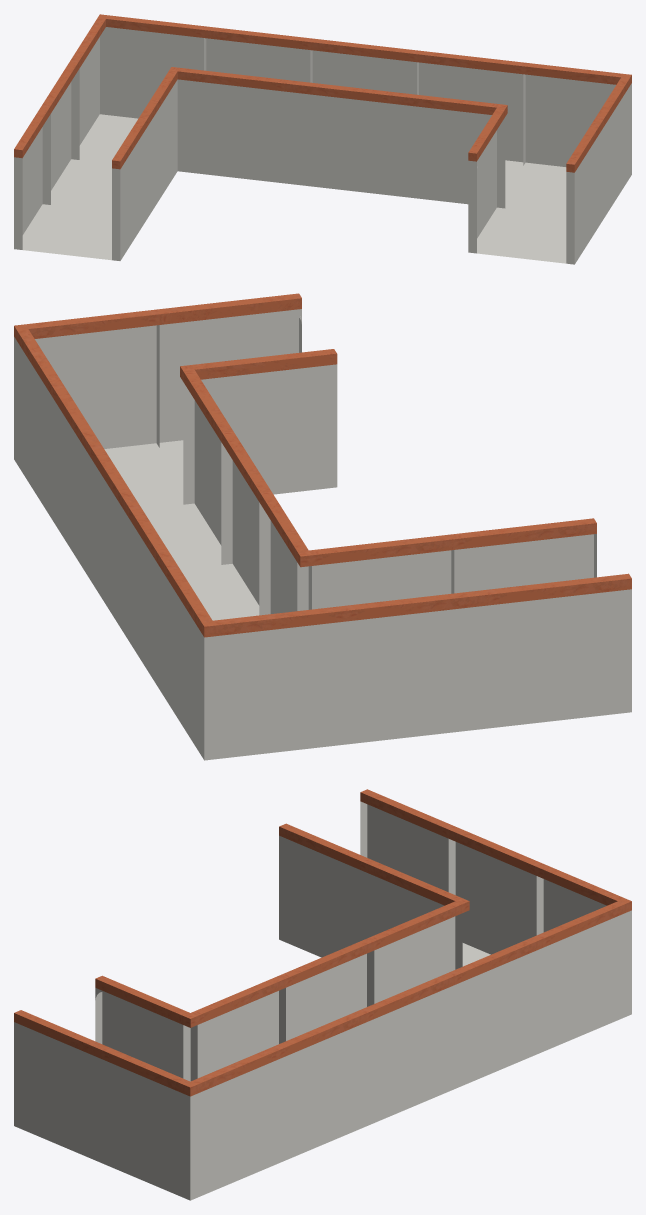
The model's file is river_basin_1.fbx.
3 renders of one model, top to bottom at view 1: azimuth 30°, elevation 25°; view 2: azimuth 150°, elevation 25°; view 3: azimuth 270°, elevation 25°, orthographic. The views are drawn at different scales.
Visible parts, largest first — view 1: SM_WaterBlock1__11_, SM_WaterBlock1__12_, SM_WaterBlock1__13_, SM_WaterBlock4__1_, SM_WaterBlock4__2_, SM_WaterfallBlock__1_, SM_WaterBlock1__15_, SM_WaterBlock1__14_; view 2: SM_WaterBlock1__15_, SM_WaterBlock1__14_, SM_WaterBlock4__2_, SM_WaterfallBlock__1_, SM_WaterBlock4__1_, SM_WaterBlock1__12_, SM_WaterBlock1__13_, SM_WaterBlock1__11_; view 3: SM_WaterBlock4__1_, SM_WaterfallBlock__1_, SM_WaterBlock1__11_, SM_WaterBlock1__13_, SM_WaterBlock1__12_, SM_WaterBlock1__15_, SM_WaterBlock4__2_, SM_WaterBlock1__14_.
Part boxes in pixels (<box>): SM_WaterBlock1__11_: <box>177,26,312,183</box>; SM_WaterBlock1__12_: <box>284,38,418,195</box>; SM_WaterBlock1__13_: <box>390,50,525,204</box>; SM_WaterBlock4__1_: <box>497,62,631,218</box>; SM_WaterBlock4__2_: <box>71,14,205,163</box>; SM_WaterfallBlock__1_: <box>468,107,603,264</box>; SM_WaterBlock1__15_: <box>14,104,148,260</box>; SM_WaterBlock1__14_: <box>42,59,177,215</box>; SM_WaterBlock1__15_: <box>451,518,631,728</box>; SM_WaterBlock1__14_: <box>309,534,489,744</box>; SM_WaterBlock4__2_: <box>166,550,346,760</box>; SM_WaterfallBlock__1_: <box>156,293,337,494</box>; SM_WaterBlock4__1_: <box>14,309,194,518</box>; SM_WaterBlock1__12_: <box>90,430,270,639</box>; SM_WaterBlock1__13_: <box>52,369,232,578</box>; SM_WaterBlock1__11_: <box>128,490,308,699</box>; SM_WaterBlock4__1_: <box>102,1013,278,1200</box>; SM_WaterfallBlock__1_: <box>14,975,190,1162</box>; SM_WaterBlock1__11_: <box>367,901,543,1088</box>; SM_WaterBlock1__13_: <box>190,976,366,1162</box>; SM_WaterBlock1__12_: <box>279,938,455,1125</box>; SM_WaterBlock1__15_: <box>279,789,455,957</box>; SM_WaterBlock4__2_: <box>456,864,631,1051</box>; SM_WaterBlock1__14_: <box>367,826,543,966</box>.
Size of the model in its own units: 2262 by 400 by 1981.
